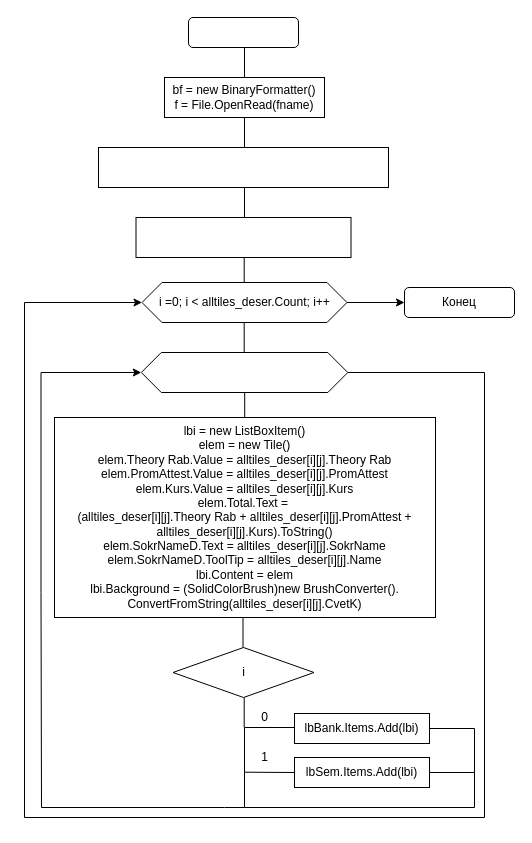
The diagram is 532 pixels wide and 843 high, and some of its shapes have lost their labels. Each missing label, with the centre of its shape:
alltiles_deser = (List<List<TileSer>>)bf.Deserialize(f) f.Close(): point 243,167
j =0; i < alltiles_deser[i].Count; j++: point 244,372
lbBank.Items.Clear() lbSem.Items.Clear(): point 243,237
Начало: point 243,32
